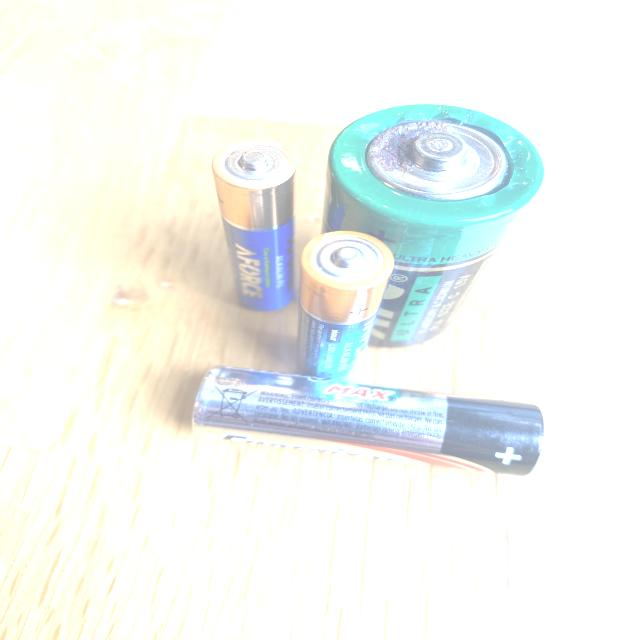AA: (188, 363, 552, 480), (291, 229, 399, 382), (210, 140, 301, 313)
